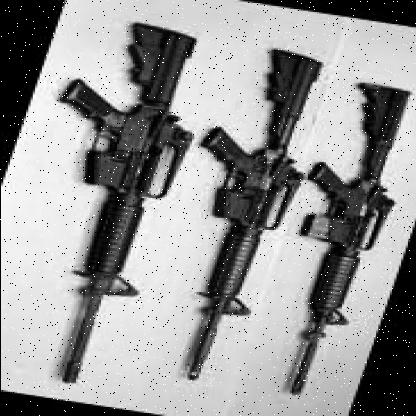rifle: (0, 9, 223, 390), (125, 40, 339, 390), (230, 69, 416, 405)
